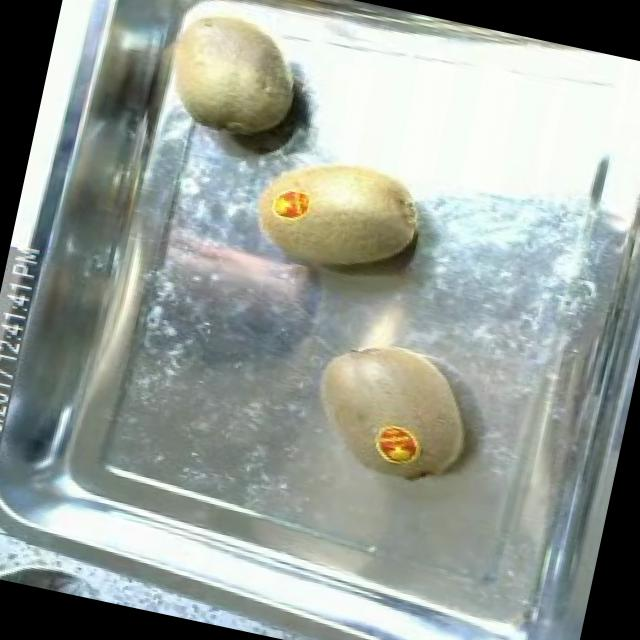Fruit: (290, 320, 492, 497), (245, 136, 438, 294), (139, 0, 323, 154)
